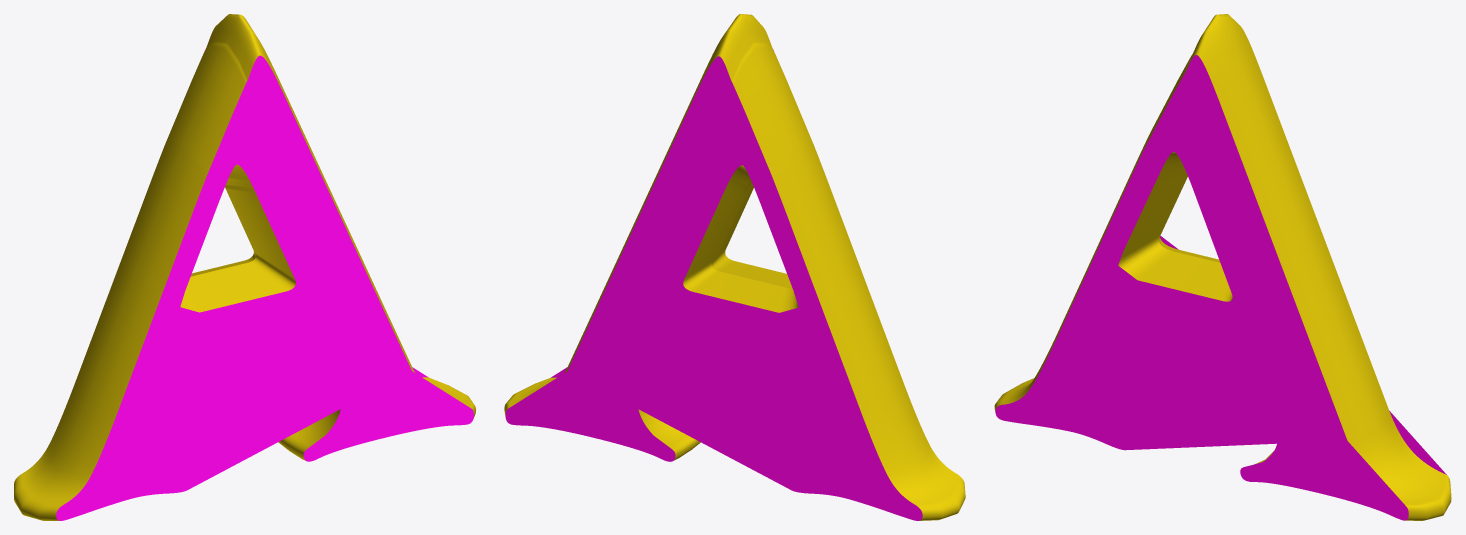
The picture shows the model from 3 angles, left to right: view 1: azimuth 30°, elevation 25°; view 2: azimuth 150°, elevation 25°; view 3: azimuth 330°, elevation 25°; orthographic projection.
Parts seen in each view (by area): view 1: Text.001; view 2: Text.001; view 3: Text.001.
Part boxes in pixels (bbox=[...]): Text.001: bbox=[14, 14, 475, 520]; Text.001: bbox=[504, 14, 965, 520]; Text.001: bbox=[994, 14, 1451, 520].
Size of the model in its own units: 66.98 by 64.4 by 10.87.
